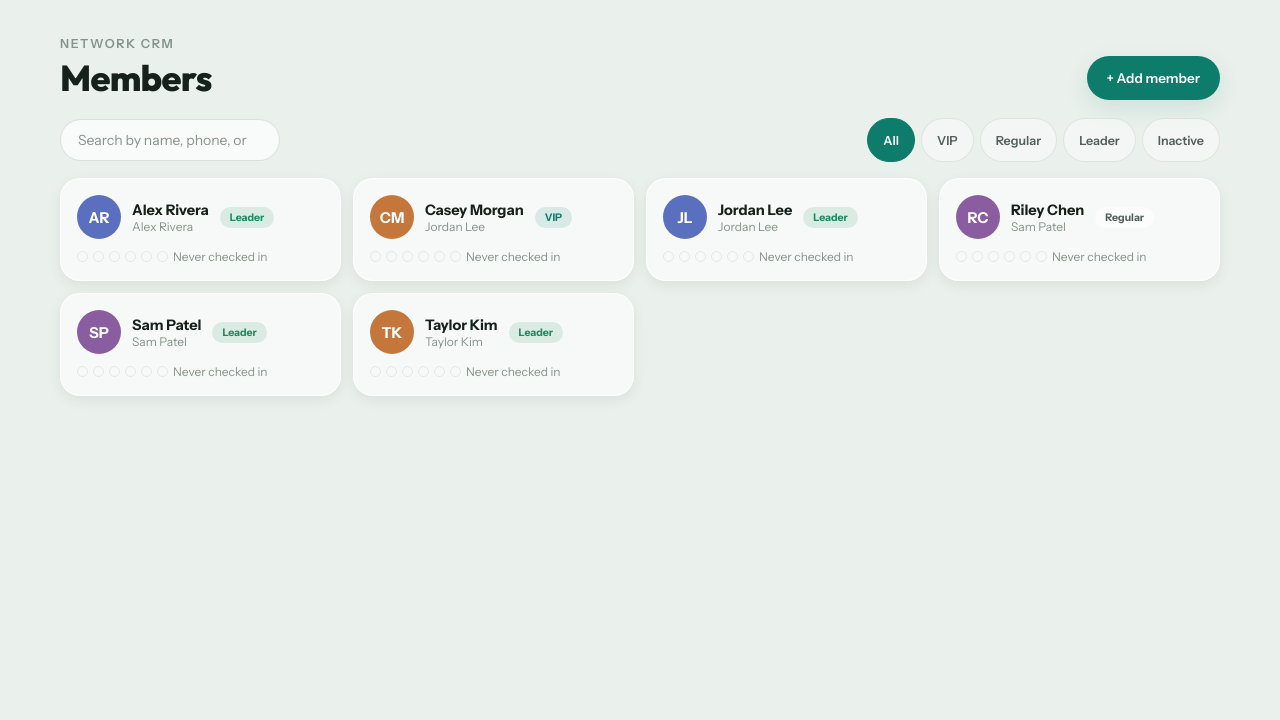
it: MembersPage › opens an accessible profile dialog from a member card
Step 1. Click the button "CM Casey Morgan Jordan Lee VIP Never checked in" → (392, 217), box [353,178,634,281]
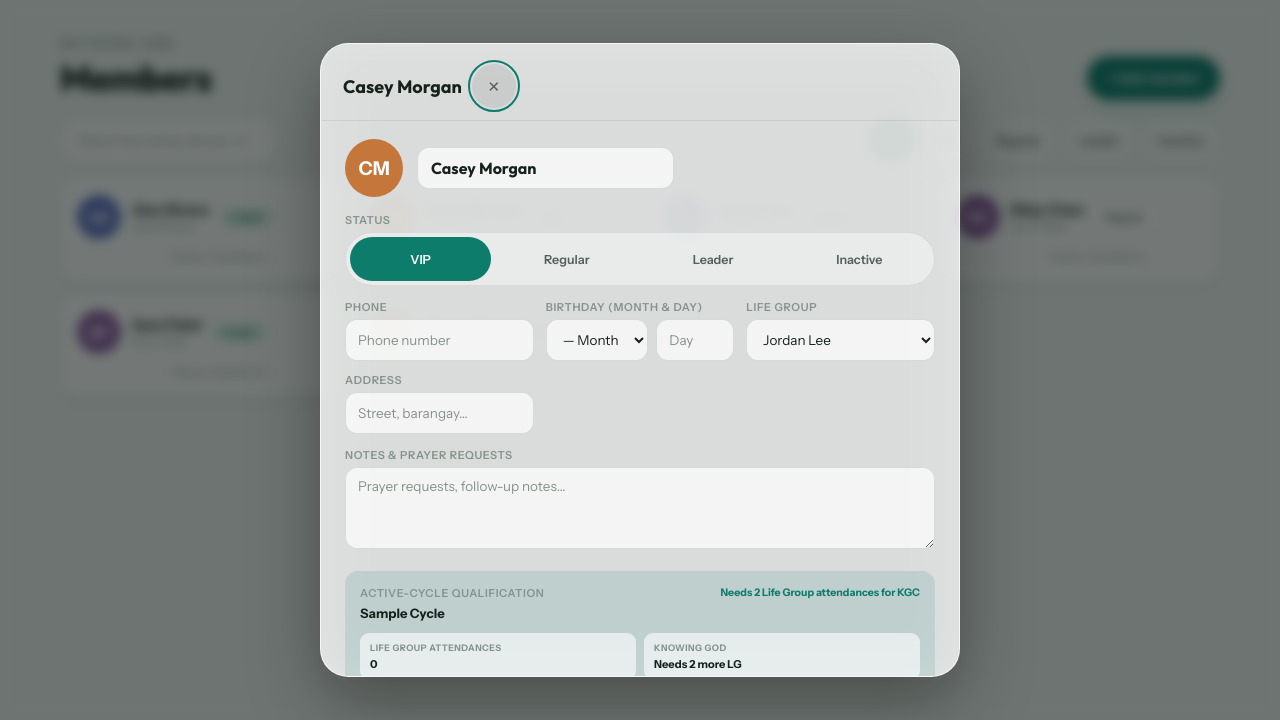
Check: the field showing "Casey Morgan" is shown, box [417,147,674,189]
